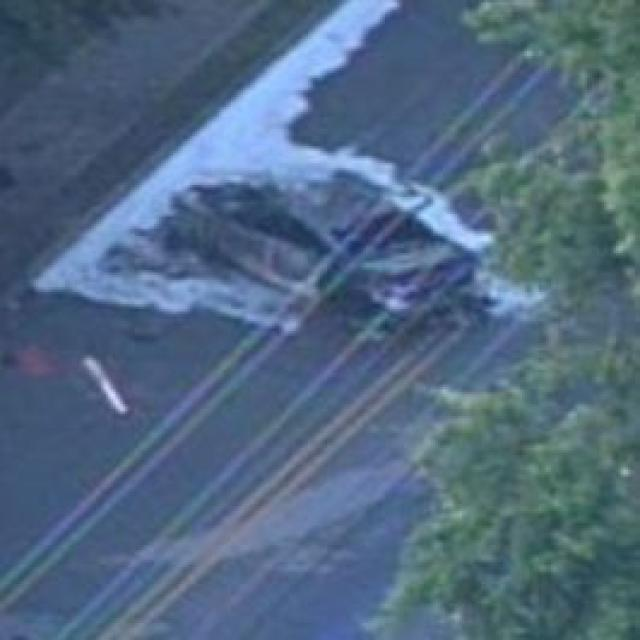traffic_incident: (156, 168, 467, 338)
